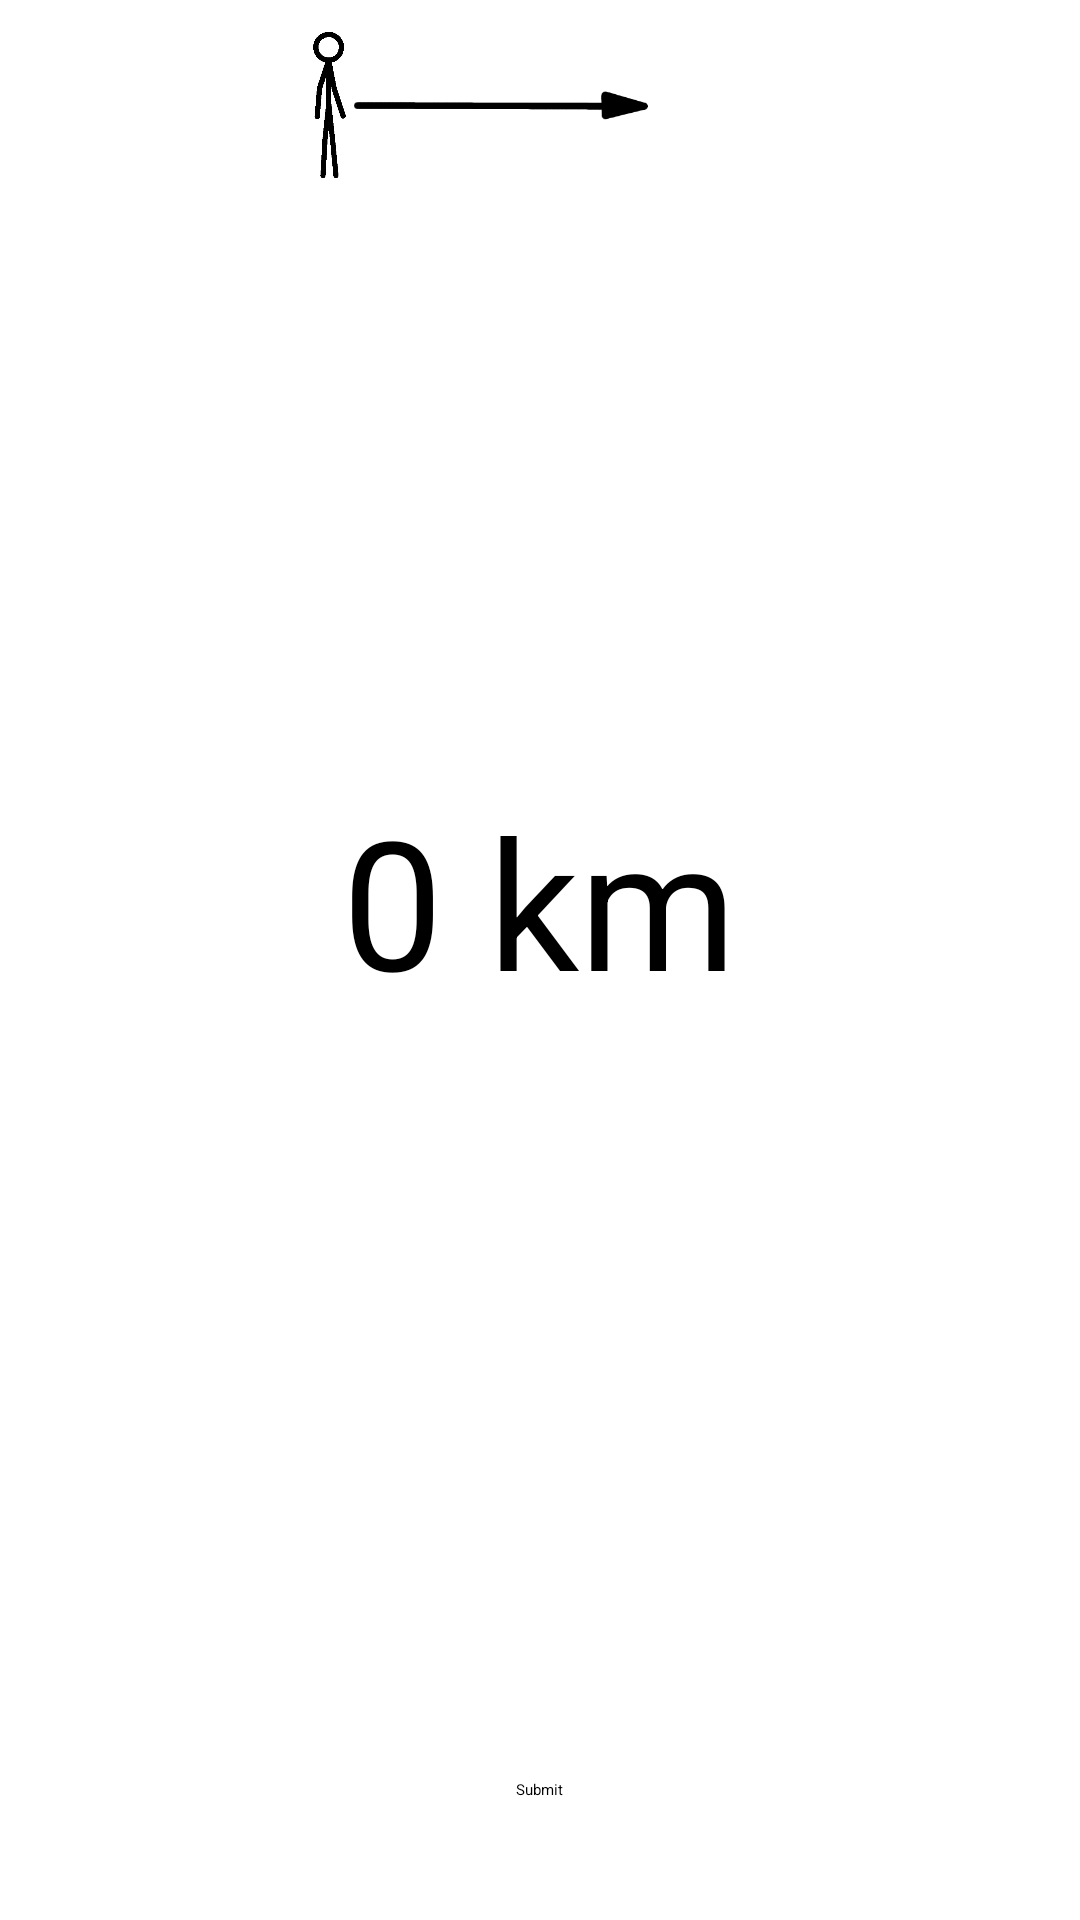

Screen size 1080*1920. Icon name, then its box in pixels as bbox=(x1, y1, x2, y2):
stickman: bbox=(313, 32, 346, 178)
